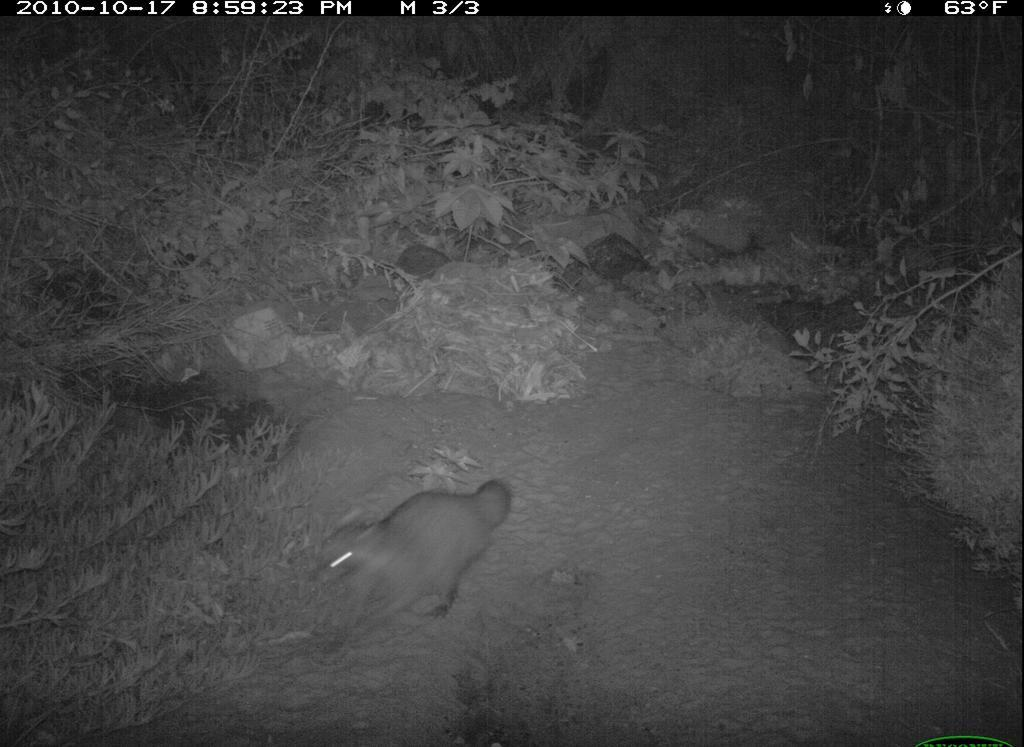raccoon: (296, 463, 529, 642)
